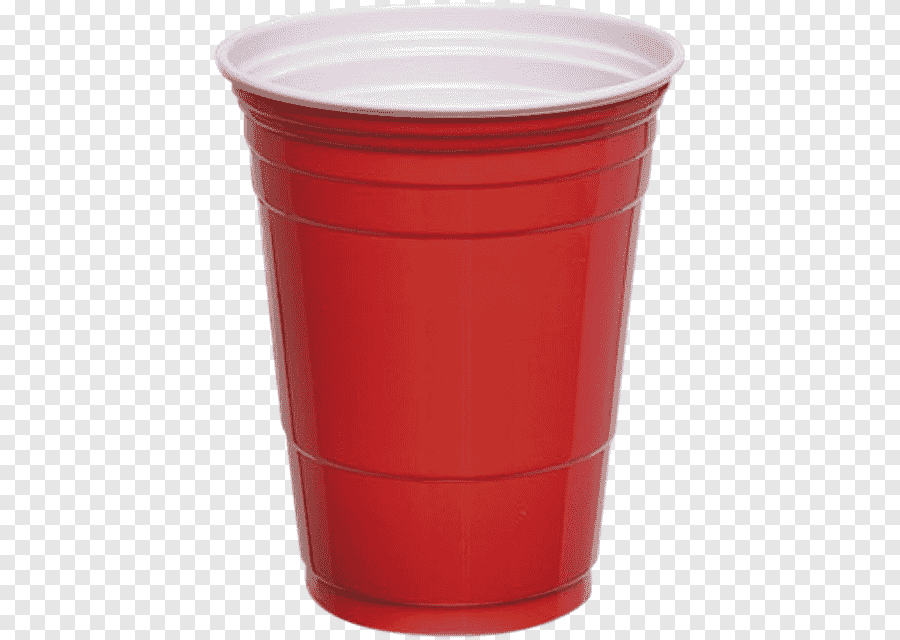plastic_glass: (212, 1, 690, 640)
